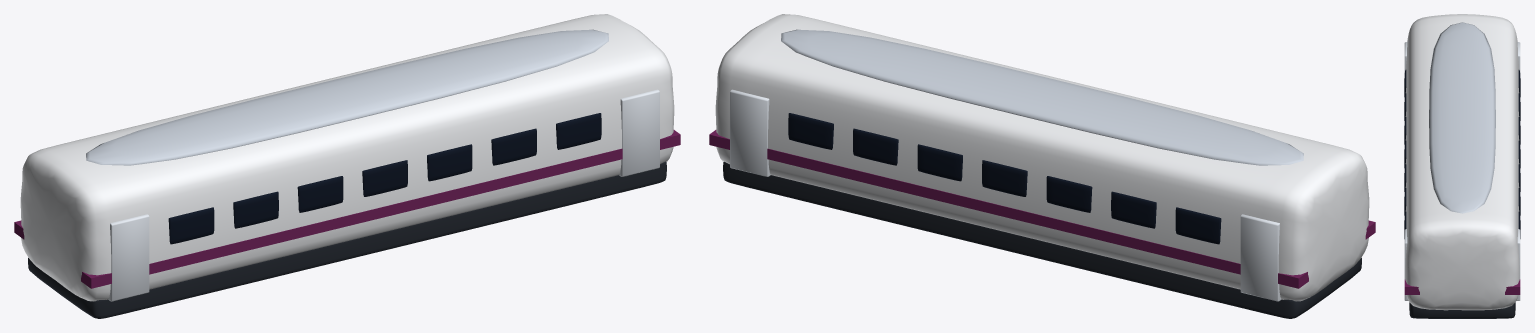
Rendered from tren_ave_coche.glb.
3 views of the same model, side by side, from view 1: azimuth 30°, elevation 25°; view 2: azimuth 150°, elevation 25°; view 3: azimuth 270°, elevation 25° (orthographic). The views are drawn at different scales.
Parts seen in each view (by area): view 1: CajaCoche, TechoCoche, Cube, Cube.001, Cube.009, Cube.010, Cube.004, Cube.002, Cube.006, Cube.008, Cube.003, Cube.005 (+1 smaller); view 2: CajaCoche, TechoCoche, Cube, Cube.001, Cube.009, Cube.010, Cube.004, Cube.002, Cube.006, Cube.008, Cube.003, Cube.005 (+1 smaller); view 3: CajaCoche, TechoCoche, Cube, Cube.001, Cube.010, Cube.009, Cube.003, Cube.006, Cube.004, Cube.007, Cube.002, Cube.005 (+1 smaller).
Boxes of the visible parts, x1,y1,x2,y2 form: CajaCoche: [20, 14, 674, 301]; TechoCoche: [86, 29, 608, 165]; Cube: [28, 161, 666, 318]; Cube.001: [14, 130, 680, 288]; Cube.009: [108, 214, 149, 301]; Cube.010: [619, 89, 659, 176]; Cube.004: [297, 176, 343, 212]; Cube.002: [168, 207, 214, 244]; Cube.006: [427, 144, 472, 181]; Cube.008: [556, 113, 601, 149]; Cube.003: [233, 191, 278, 228]; Cube.005: [362, 160, 407, 196]; CajaCoche: [715, 14, 1369, 301]; TechoCoche: [781, 29, 1303, 165]; Cube: [723, 161, 1361, 318]; Cube.001: [709, 130, 1375, 288]; Cube.009: [1240, 214, 1281, 301]; Cube.010: [730, 89, 770, 176]; Cube.004: [1046, 176, 1092, 212]; Cube.002: [1175, 207, 1221, 244]; Cube.006: [917, 144, 962, 181]; Cube.008: [788, 113, 833, 149]; Cube.003: [1111, 191, 1156, 228]; Cube.005: [982, 160, 1027, 196]; CajaCoche: [1405, 14, 1519, 310]; TechoCoche: [1429, 22, 1495, 213]; Cube: [1409, 302, 1515, 318]; Cube.001: [1404, 279, 1520, 294]; Cube.010: [1404, 229, 1520, 300]; Cube.009: [1404, 42, 1520, 72]; Cube.003: [1404, 93, 1520, 120]; Cube.006: [1404, 164, 1520, 191]; Cube.004: [1404, 117, 1520, 144]; Cube.007: [1404, 188, 1520, 215]; Cube.002: [1404, 70, 1520, 96]; Cube.005: [1404, 141, 1520, 167].
Size of the model in its own units: 13.17 by 2.83 by 2.97.
